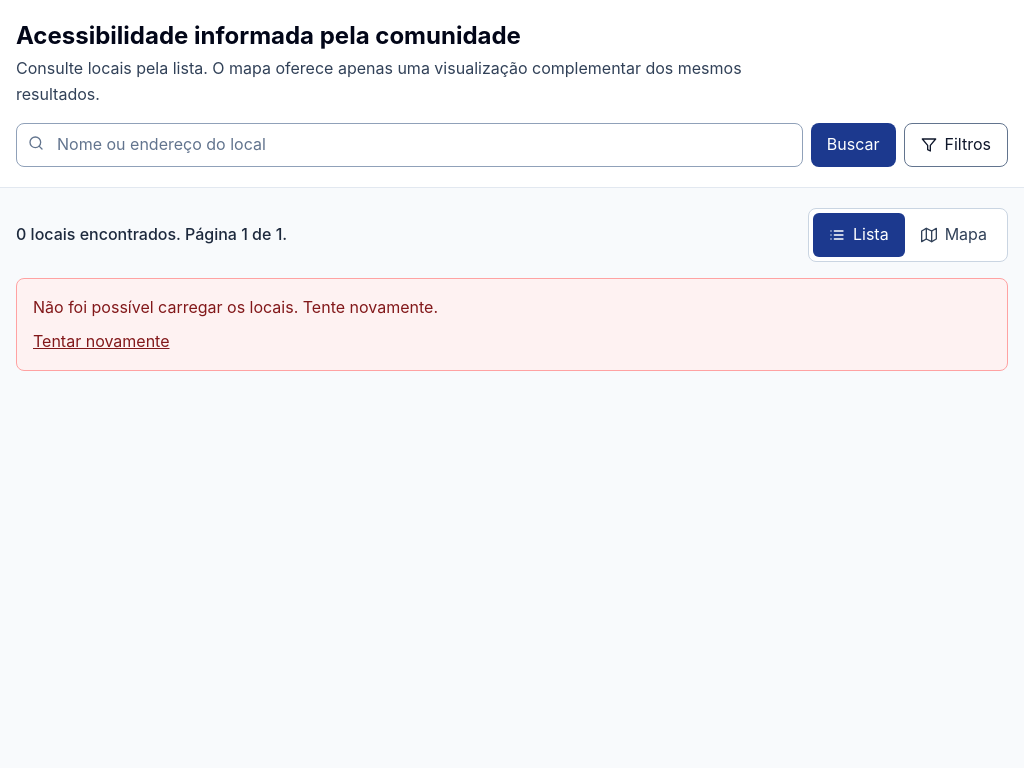
Test: Home › oferece retry em erro e pagina os resultados
Expected: the message "Não foi possível carregar os locais. Tente novamente. Tentar novamente" is shown, top-left (16, 278), bottom-right (1008, 371)
Click the button "Tentar novamente": (101, 342) top-left (33, 329), bottom-right (170, 354)
(page scrolled)
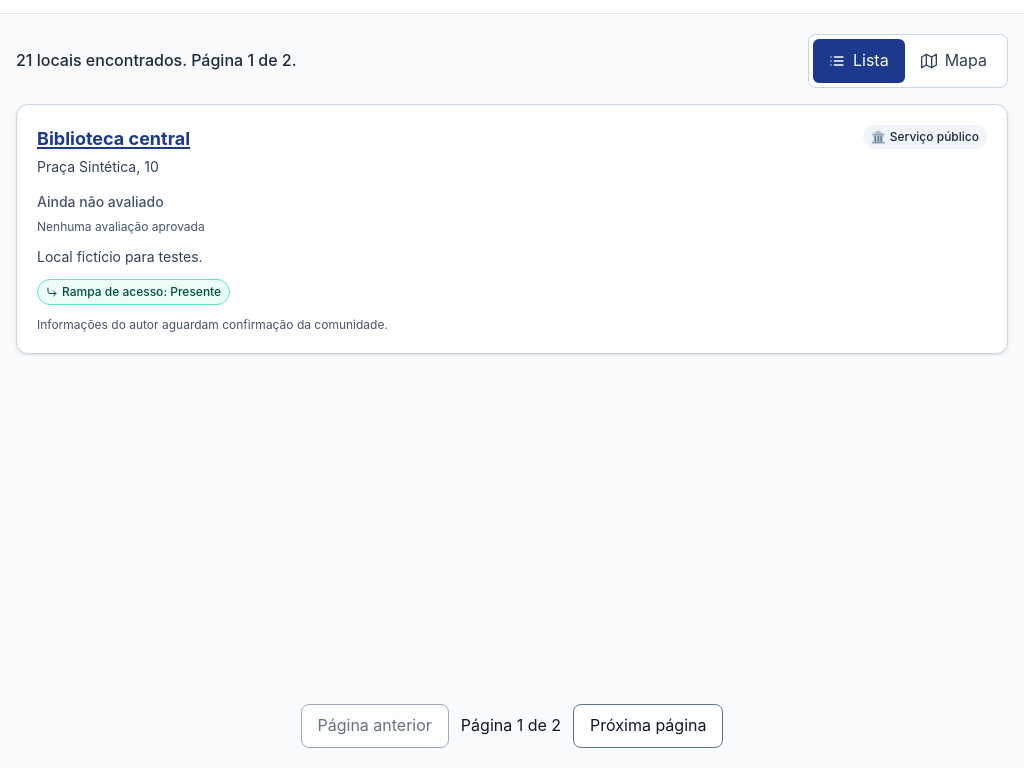
Now the button "Próxima página" is enabled
Click the button "Próxima página": (648, 726) top-left (573, 704), bottom-right (724, 748)
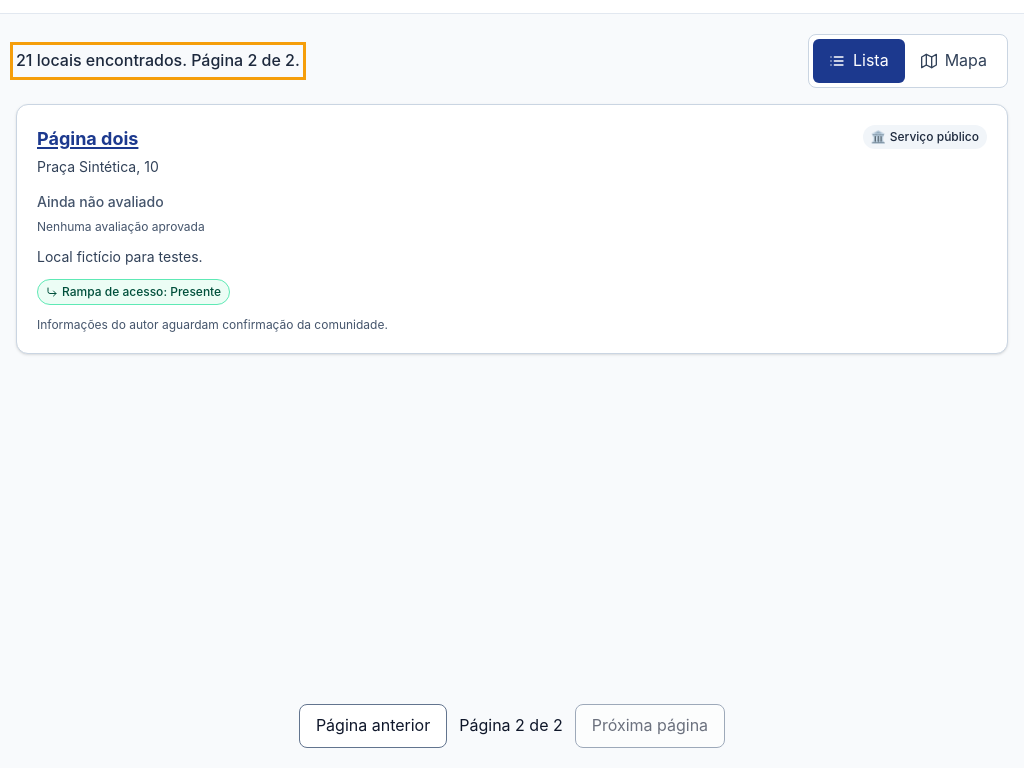
Now the link "Página dois" is shown, box top-left (37, 128), bottom-right (138, 149)
Now the button "Página anterior" is enabled, box top-left (299, 704), bottom-right (447, 748)
